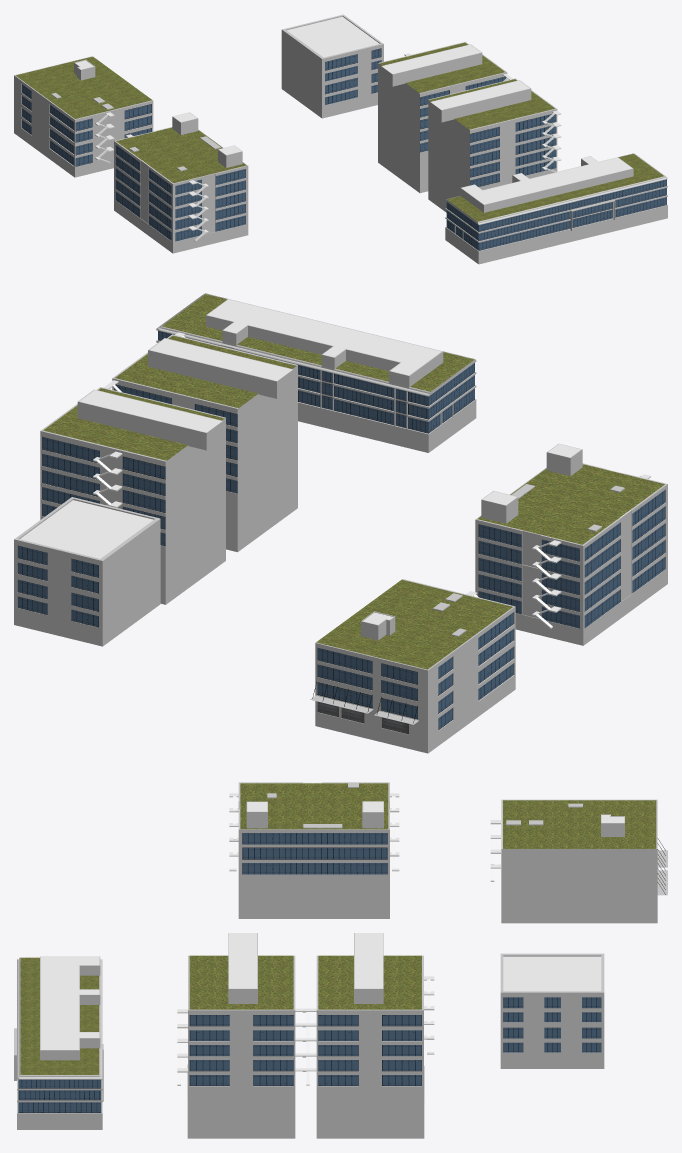
File: CSL-Lengnau_simplified-Extension_2_025b.gltf
3 views of the same model, one above another, from view 1: azimuth 30°, elevation 25°; view 2: azimuth 150°, elevation 25°; view 3: azimuth 270°, elevation 25° (orthographic). The views are drawn at different scales.
Parts seen in each view (by area): view 1: simplified_Extension_2:PIV; view 2: simplified_Extension_2:PIV; view 3: simplified_Extension_2:PIV.
Part boxes in pixels (bbox=[...]): simplified_Extension_2:PIV: bbox=[14, 14, 667, 264]; simplified_Extension_2:PIV: bbox=[14, 293, 667, 753]; simplified_Extension_2:PIV: bbox=[14, 782, 667, 1138].
Size of the model in its own units: 106 by 27.62 by 114.
Materials: 8 (3 with a texture image).
